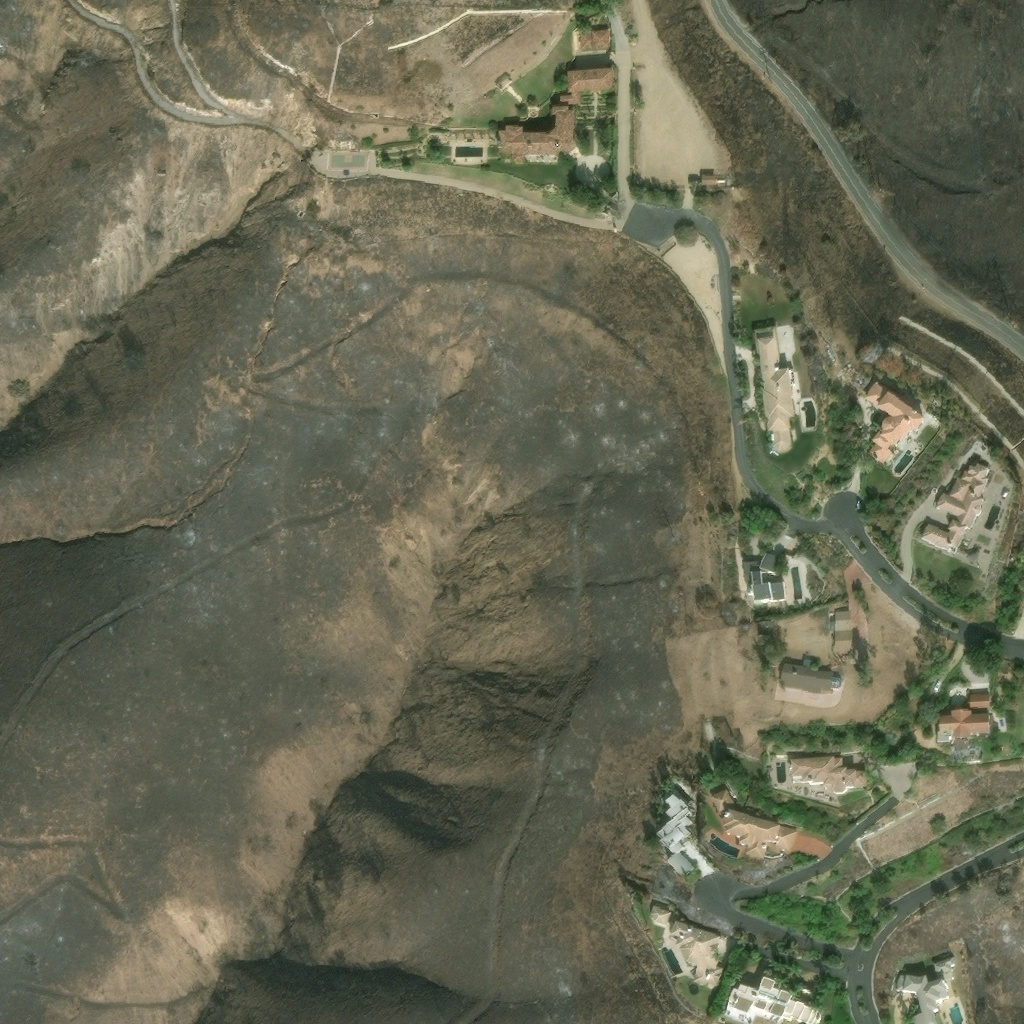0 no-damage: (499, 67, 611, 156), (649, 901, 725, 989), (709, 785, 797, 856), (922, 460, 989, 549), (862, 376, 925, 460), (720, 974, 823, 1023), (756, 332, 795, 444), (789, 753, 862, 792), (896, 971, 947, 1023), (743, 550, 785, 600), (660, 791, 692, 852), (779, 661, 833, 692), (937, 708, 989, 737), (827, 608, 853, 650), (665, 848, 694, 876), (580, 25, 610, 48), (967, 690, 987, 706), (934, 955, 955, 970), (699, 170, 715, 184)
4 un-classified: (0, 41, 5, 50)
